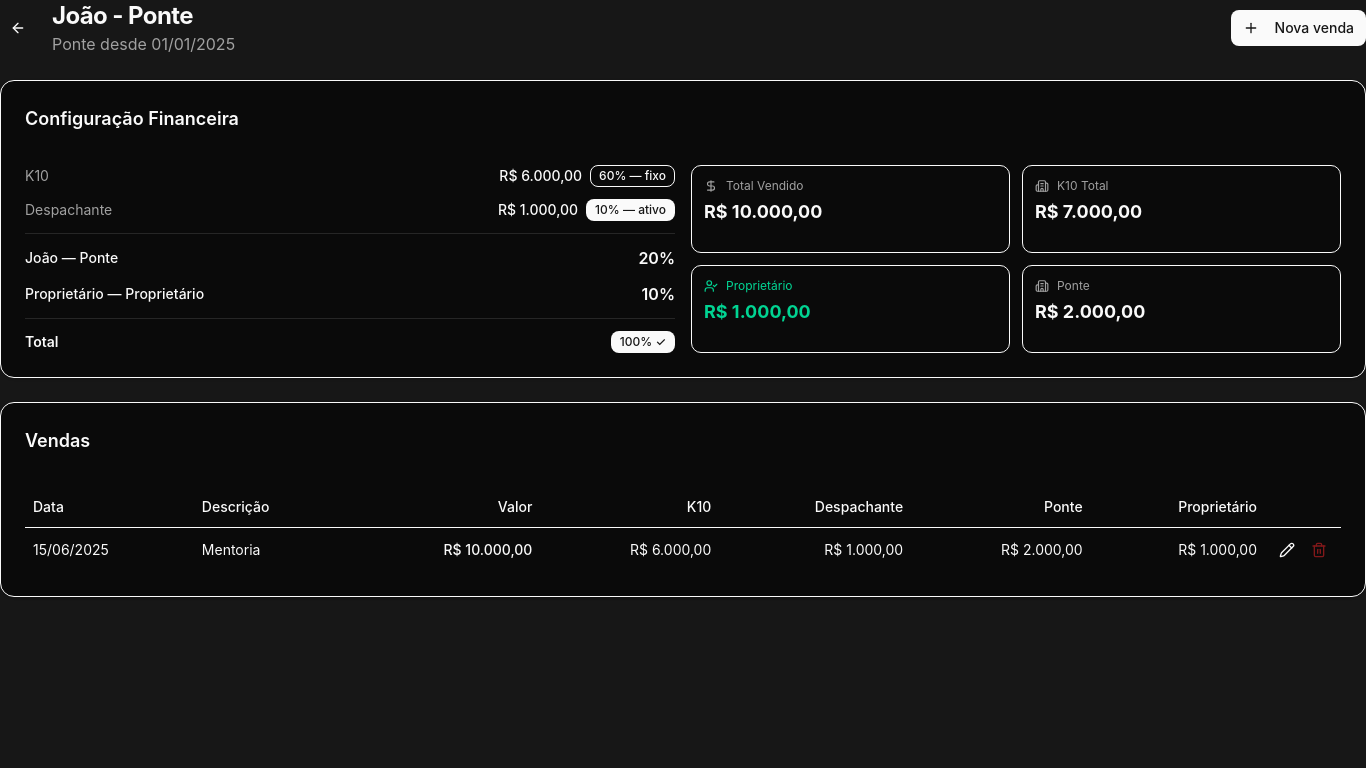
Test: VendedorDetalhe › abre o diálogo de edição pré-preenchido ao clicar em editar
The image size is (1366, 768).
Step 1. Click the button named "Editar venda" → (1287, 550), box x1=1273 y1=536 x2=1301 y2=564
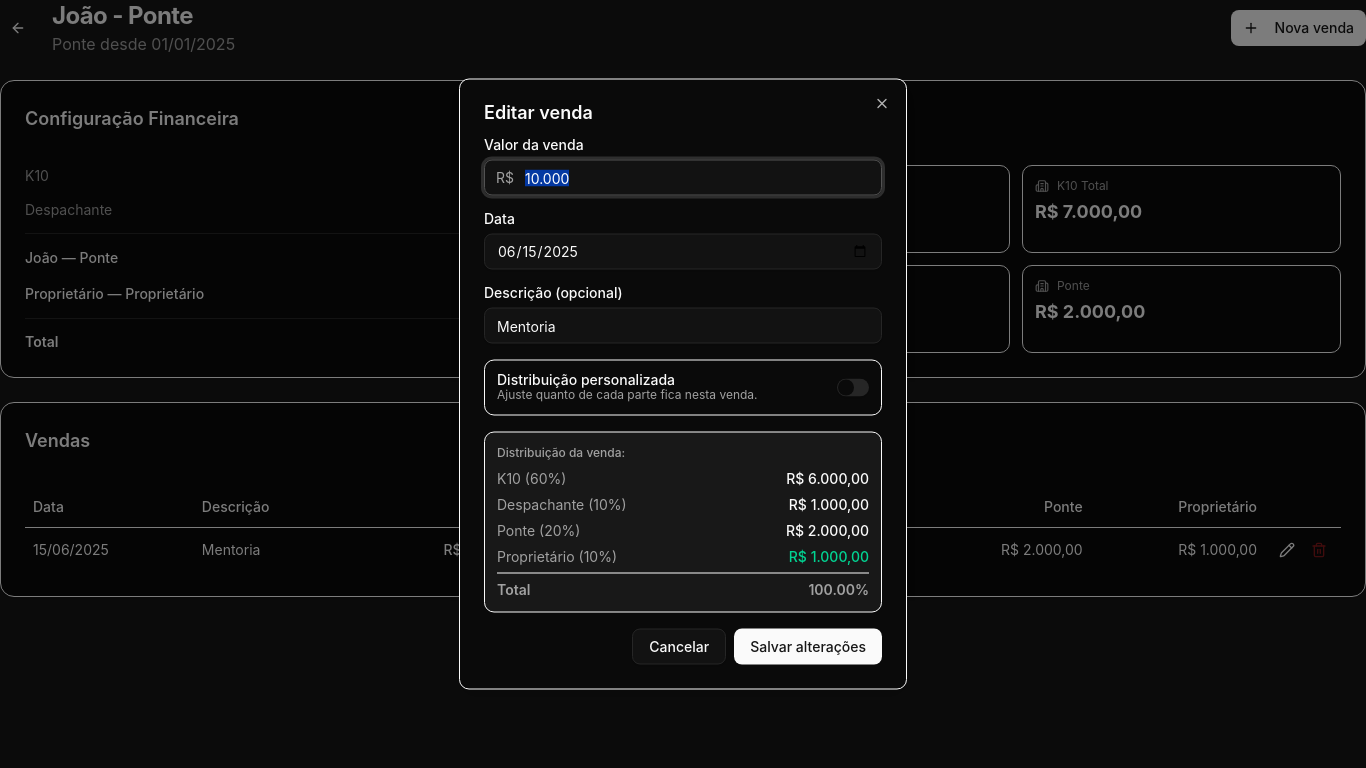
Check: the heading "Editar venda" is shown, box x1=484 y1=102 x2=593 y2=122
Check: the field labelled "Valor da venda" holds "10.000", box x1=484 y1=160 x2=882 y2=196
Check: the button "Salvar alterações" is shown, box x1=734 y1=628 x2=882 y2=664
